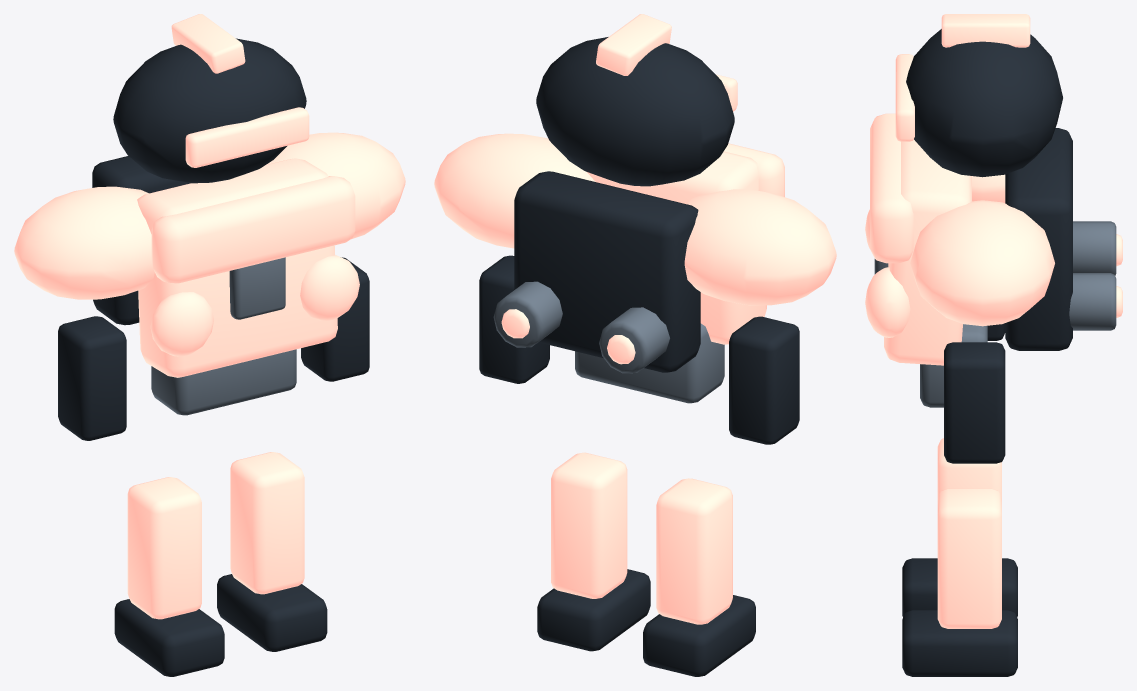
The model's file is Brute_Armor.fbx.
The picture shows the model from 3 angles, left to right: view 1: azimuth 30°, elevation 25°; view 2: azimuth 150°, elevation 25°; view 3: azimuth 270°, elevation 25°; orthographic projection. The views are drawn at different scales.
Visible parts, largest first — view 1: Helmet.007, ChestPlate.007, RamPlate, Shoulder_L.007, Shin_R.007, Shin_L.007, Forearm_L.007, Shoulder_R.007, Boot_L.007, Boot_R.007, Abdomen.007, Visor.007 (+6 smaller); view 2: BackPlate.007, Helmet.007, Shoulder_L.007, Shin_L.007, Shin_R.007, Shoulder_R.007, Forearm_L.007, Boot_R.007, Boot_L.007, ChestPlate.007, Abdomen.007, Forearm_R.007 (+6 smaller); view 3: Helmet.007, Shoulder_R.007, BackPlate.007, Shin_R.007, ChestPlate.007, Forearm_R.007, Boot_R.007, RamPlate, HelmetCrest.007, Boot_L.007, JetNozzle_R.007, ShockNode_1 (+5 smaller).
Boxes of the visible parts, bbox=[...] form: Helmet.007: bbox=[113, 38, 306, 183]; ChestPlate.007: bbox=[137, 158, 337, 377]; RamPlate: bbox=[151, 176, 355, 283]; Shoulder_L.007: bbox=[14, 186, 154, 299]; Shin_R.007: bbox=[230, 452, 304, 594]; Shin_L.007: bbox=[127, 477, 201, 619]; Forearm_L.007: bbox=[58, 316, 126, 440]; Shoulder_R.007: bbox=[266, 132, 405, 238]; Boot_L.007: bbox=[114, 599, 224, 676]; Boot_R.007: bbox=[217, 574, 327, 651]; Abdomen.007: bbox=[151, 349, 296, 415]; Visor.007: bbox=[185, 107, 309, 167]; BackPlate.007: bbox=[514, 171, 700, 372]; Helmet.007: bbox=[536, 37, 734, 186]; Shoulder_L.007: bbox=[684, 189, 836, 305]; Shin_L.007: bbox=[656, 478, 732, 624]; Shin_R.007: bbox=[551, 452, 627, 598]; Shoulder_R.007: bbox=[434, 133, 595, 248]; Forearm_L.007: bbox=[729, 316, 799, 444]; Boot_R.007: bbox=[537, 569, 650, 651]; Boot_L.007: bbox=[643, 595, 755, 676]; ChestPlate.007: bbox=[587, 151, 766, 344]; Abdomen.007: bbox=[575, 323, 724, 403]; Forearm_R.007: bbox=[479, 255, 549, 383]; Helmet.007: bbox=[906, 29, 1062, 177]; Shoulder_R.007: bbox=[910, 200, 1054, 326]; BackPlate.007: bbox=[1005, 128, 1072, 350]; Shin_R.007: bbox=[937, 488, 1001, 628]; ChestPlate.007: bbox=[884, 139, 971, 365]; Forearm_R.007: bbox=[944, 342, 1005, 463]; Boot_R.007: bbox=[902, 610, 1017, 676]; RamPlate: bbox=[870, 113, 913, 263]; HelmetCrest.007: bbox=[941, 14, 1030, 47]; Boot_L.007: bbox=[902, 558, 1017, 617]; JetNozzle_R.007: bbox=[1069, 273, 1116, 330]; ShockNode_1: bbox=[865, 267, 910, 337].
Bounding box in the file's own units: 279 × 426 × 160.
